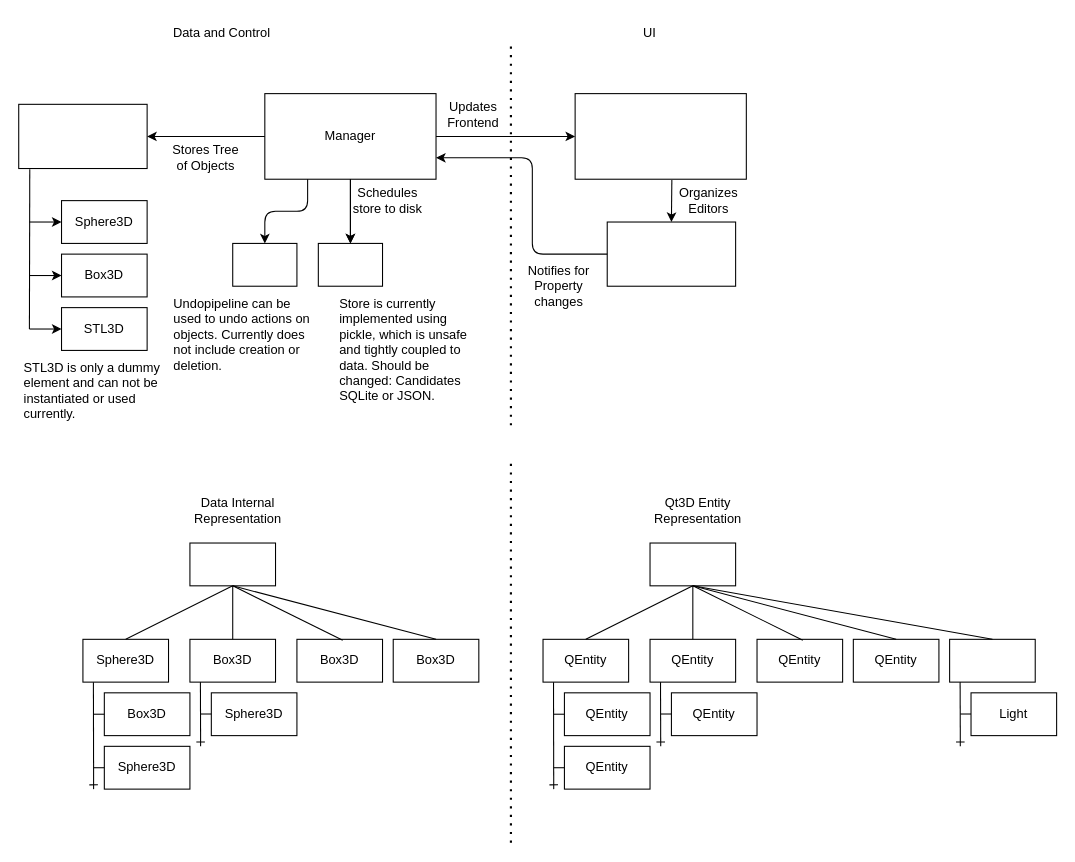
This 1075x862 diagram has some shape labels left out. Here are the shapes that lost their labels. From the top down, the centre of each, then its label:
At (x=82, y=136): "Object3D".
At (x=660, y=136): "QtFrontend".
At (x=264, y=264): "Undo-pipeline".
At (x=350, y=264): "Store".
At (x=671, y=253): "PropertyEditor".
At (x=232, y=564): "RootNode".
At (x=692, y=564): "RootEntity".
At (x=992, y=660): "Camera".
